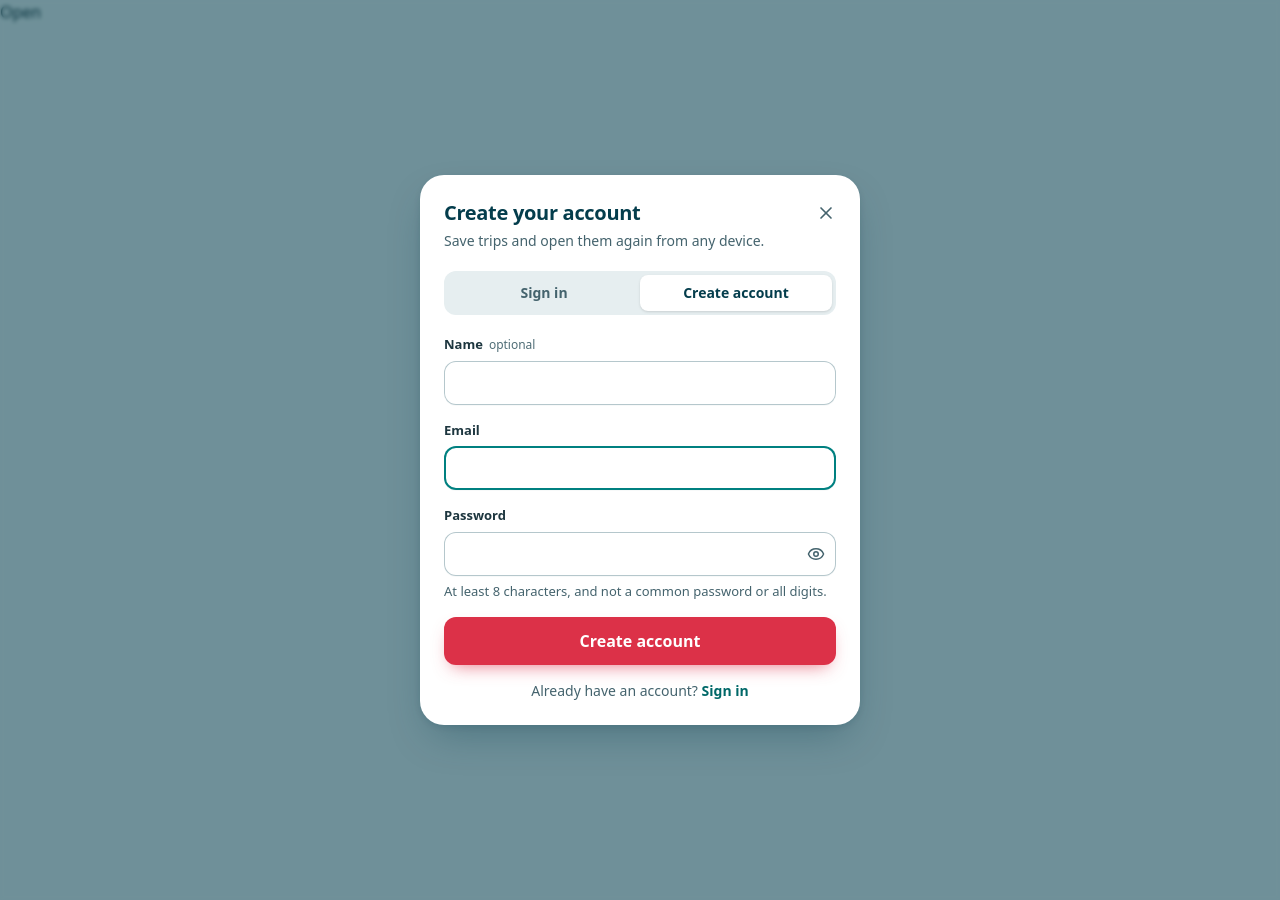
Test: AuthDialog › creating an account › shows a name error from the API on the name field
Step 1. Type "dana@example.com" into the field with test id "input-auth-email" → (640, 468), box [444, 446, 836, 490]
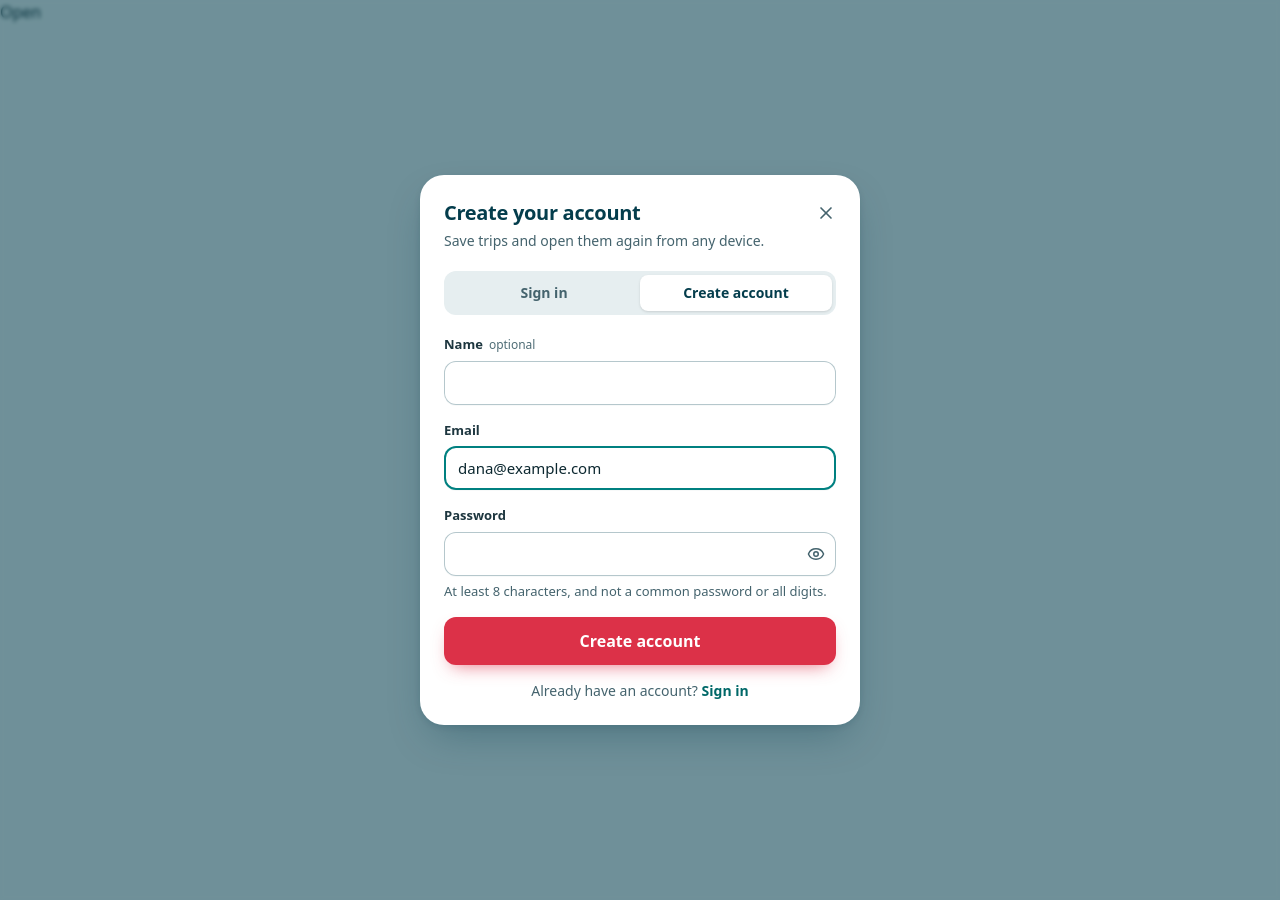
Step 2. Type "a-long-passphrase" into the password field with test id "input-auth-password" → (640, 554), box [444, 532, 836, 576]
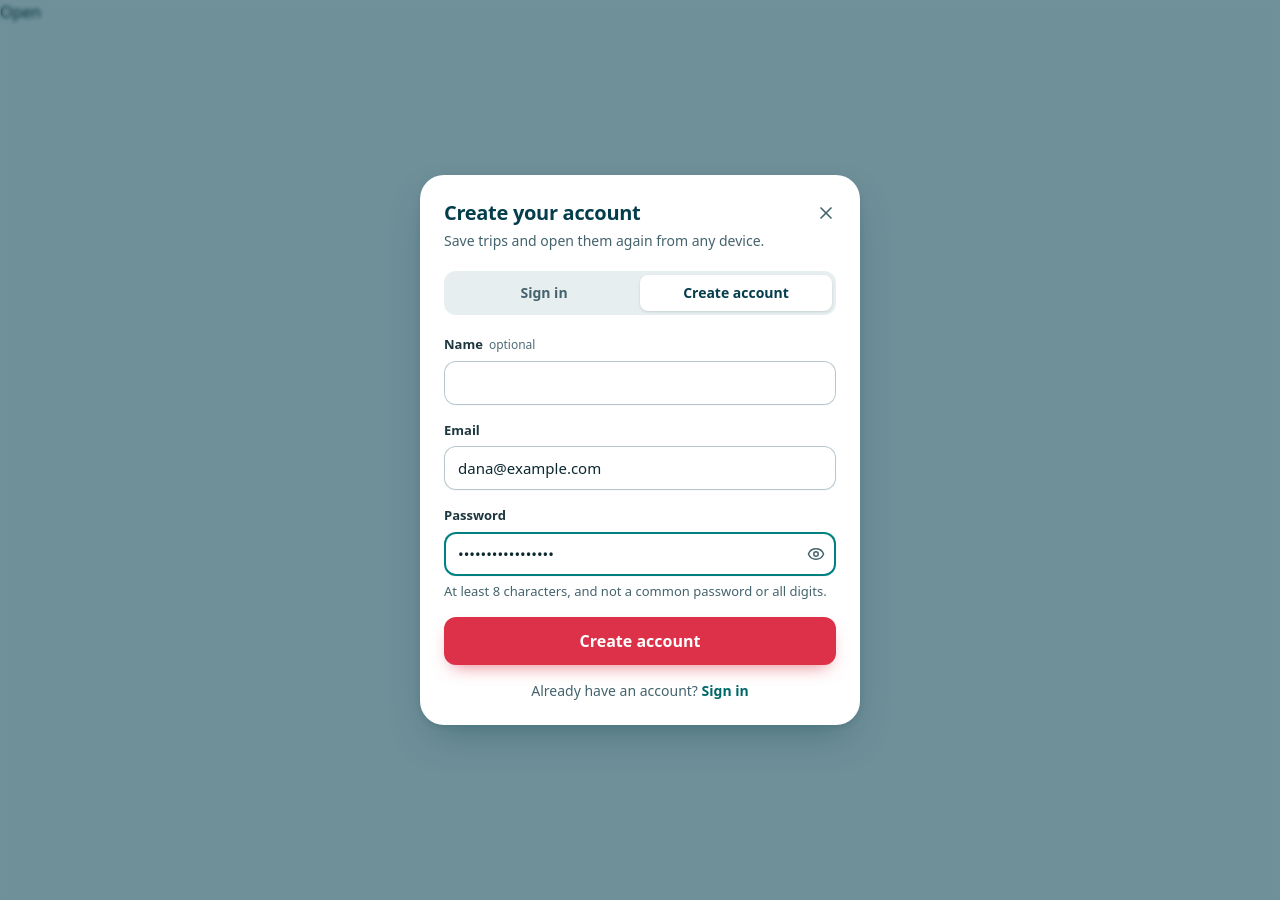
Step 3. Click the button with test id "btn-auth-submit" → (640, 641), box [444, 617, 836, 665]
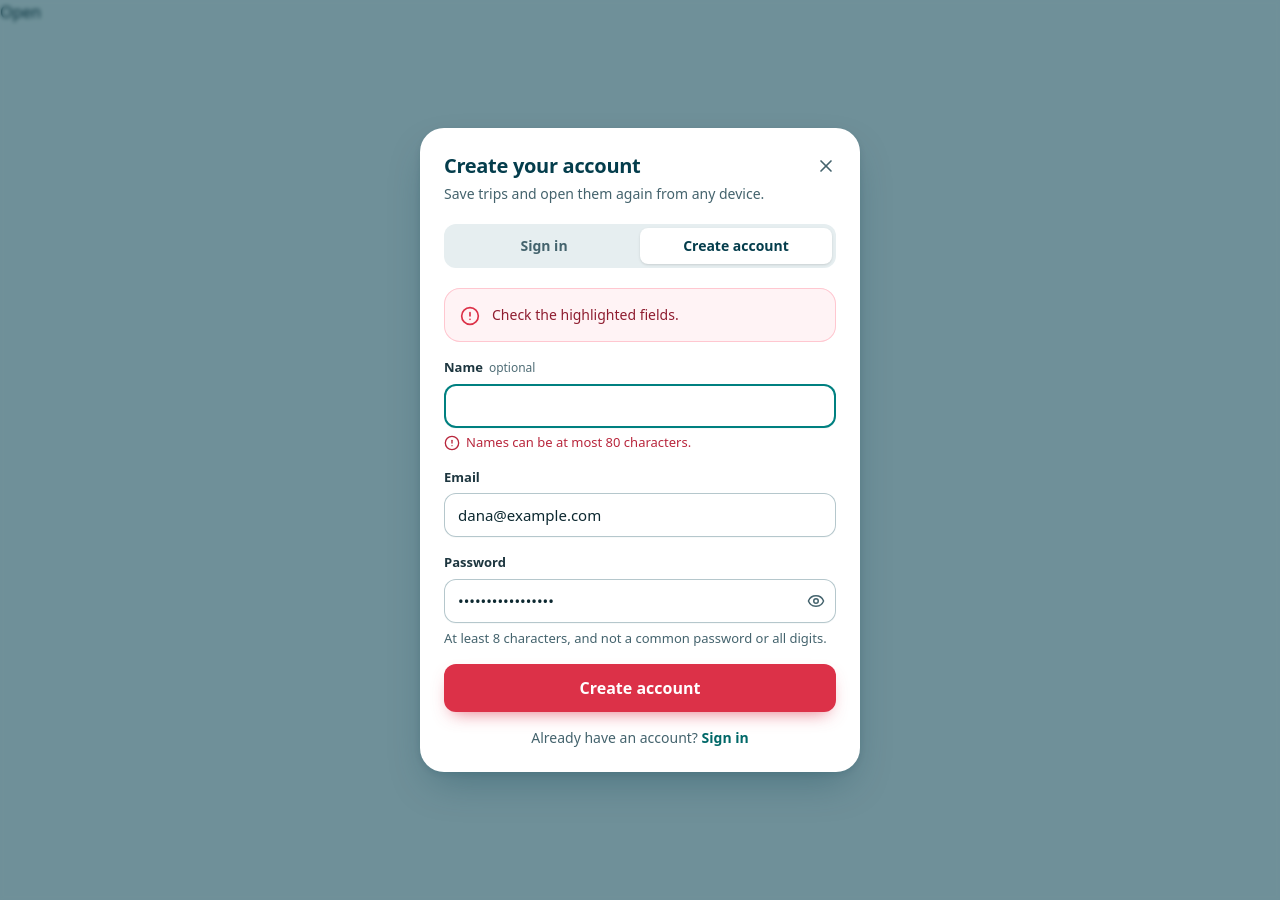
Now the text "Names can be at most 80 characters." is shown, box [466, 434, 691, 452]
